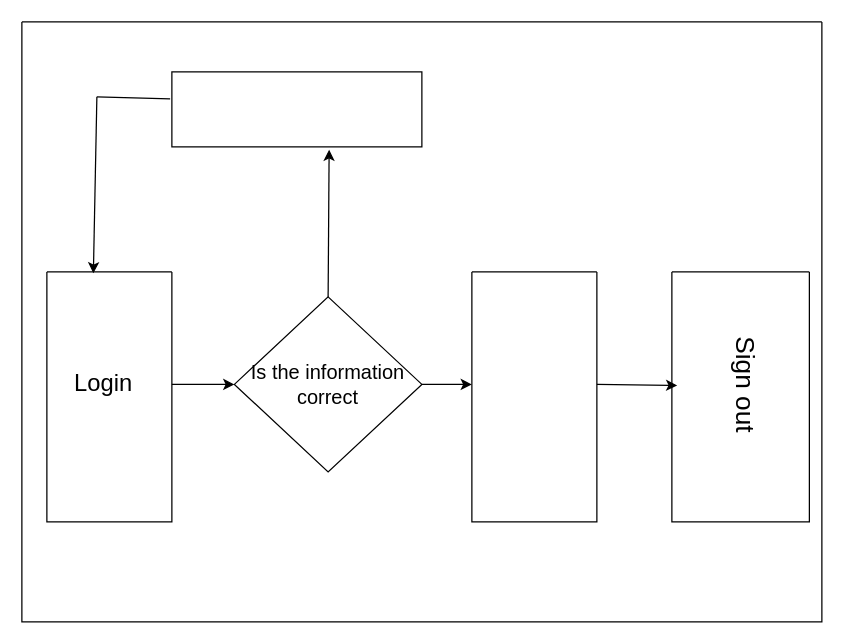
This 844x644 diagram has some shape labels left out. Here are the shapes that lost their labels. From the top down, the box of each, then its label:
(171, 71, 422, 147): Login failed
(471, 271, 597, 522): Landed successfully
